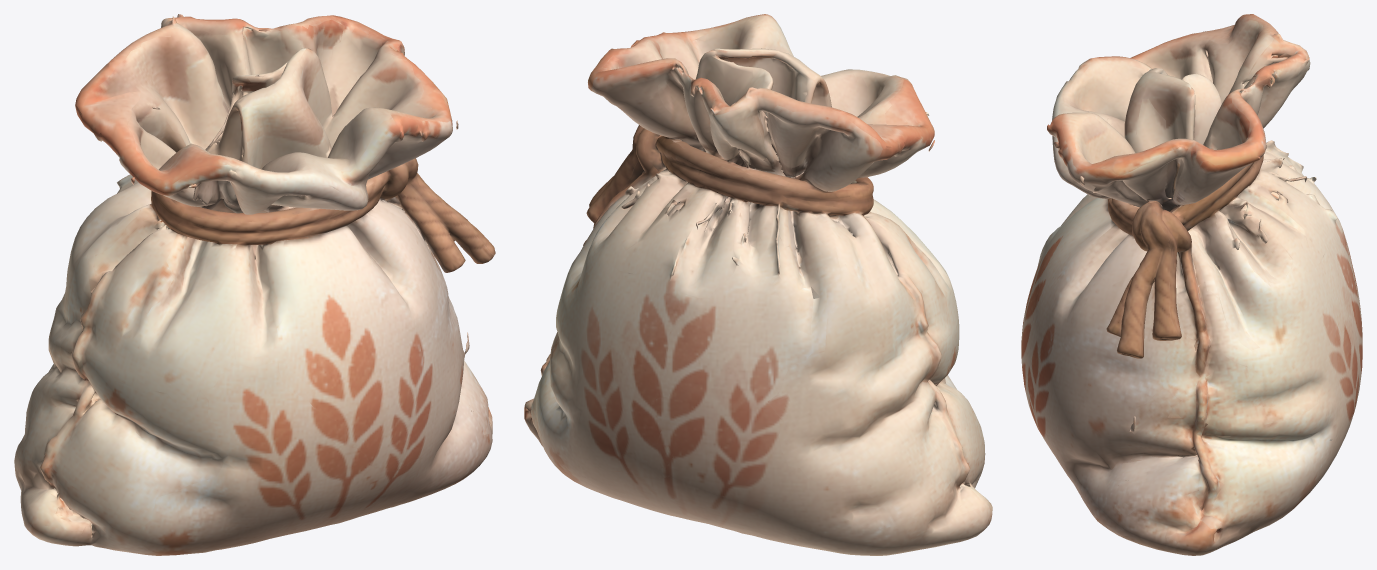
Rendered from A8_面粉袋_后续平滑版.glb.
3 views of the same model, side by side, from view 1: azimuth 30°, elevation 25°; view 2: azimuth 150°, elevation 25°; view 3: azimuth 270°, elevation 25° (orthographic). The views are drawn at different scales.
Parts seen in each view (by area): view 1: A8-flour-sack_body; view 2: A8-flour-sack_body; view 3: A8-flour-sack_body.
Part boxes in pixels (x1,y1,x2,y2): A8-flour-sack_body: (14, 14, 495, 555); A8-flour-sack_body: (524, 14, 992, 555); A8-flour-sack_body: (1021, 14, 1362, 555).
Size of the model in its own units: 1 by 0.9204 by 0.6966.
Materials: 1 (1 with a texture image).
